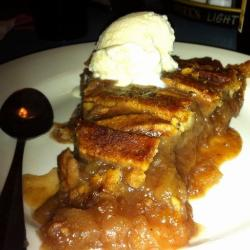apple_pie: (49, 49, 236, 222)
icecream: (83, 9, 184, 87)
